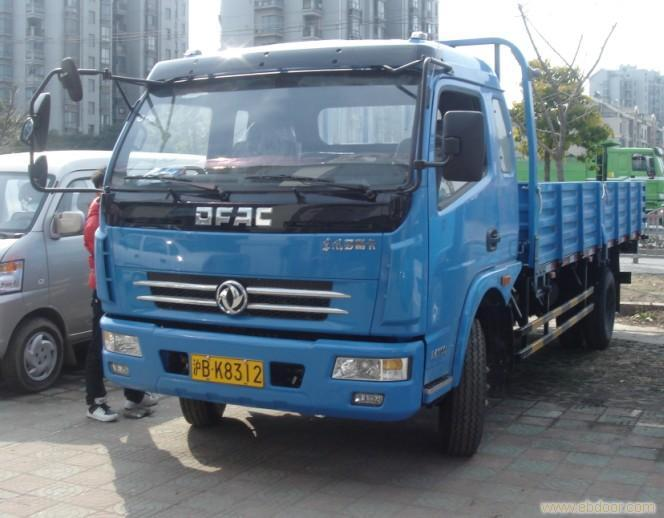truck: (88, 32, 652, 463)
